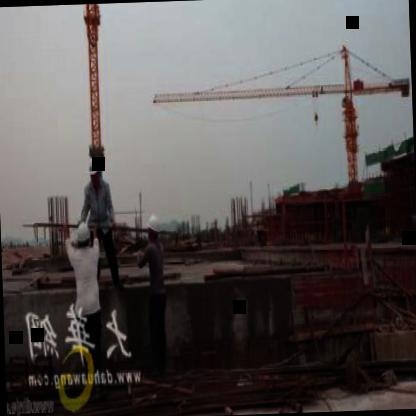helmet: (74, 218, 94, 252), (86, 154, 104, 190), (144, 213, 162, 246)
